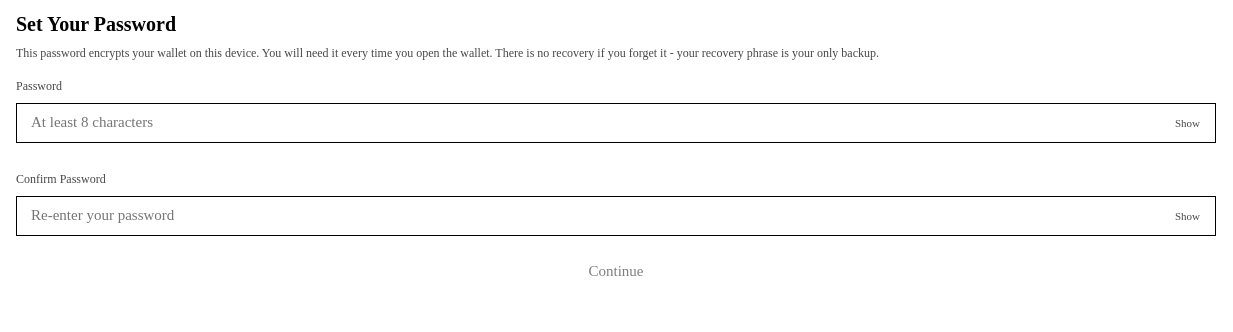
PasswordSetupScreen (B5.1) › surfaces onSubmit errors via the alert region
Type "StrongPass123" into the password field labelled "Password" at (616, 123), box [16,103,1216,143]
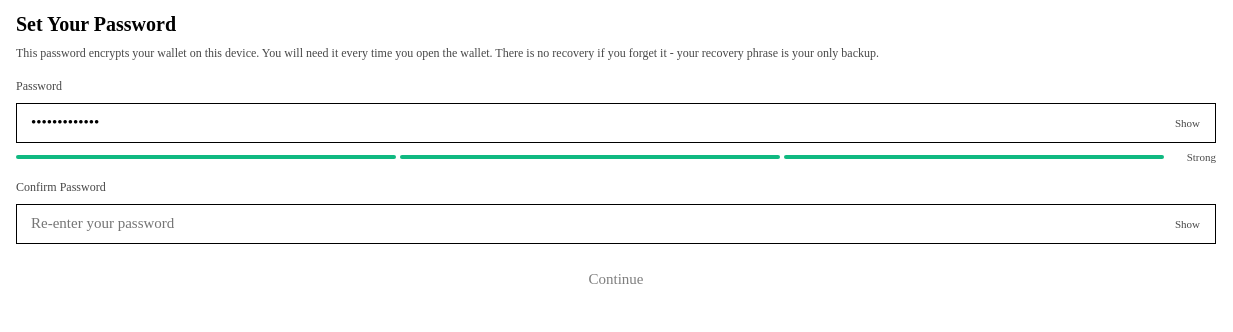
Type "StrongPass123" into the password field labelled "Confirm Password" at (616, 224), box [16,204,1216,244]
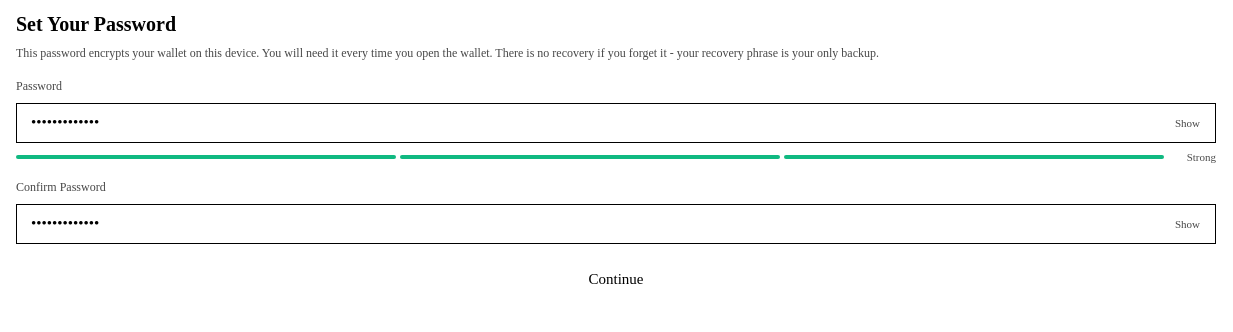
Click the button "Continue" at (616, 280), box [16,260,1216,300]
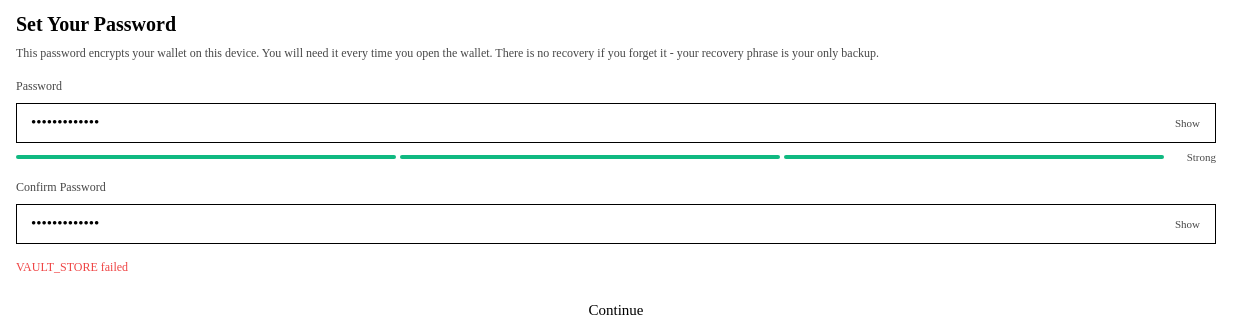
Expected: the message "VAULT_STORE failed" is shown, [16,260,128,274]
